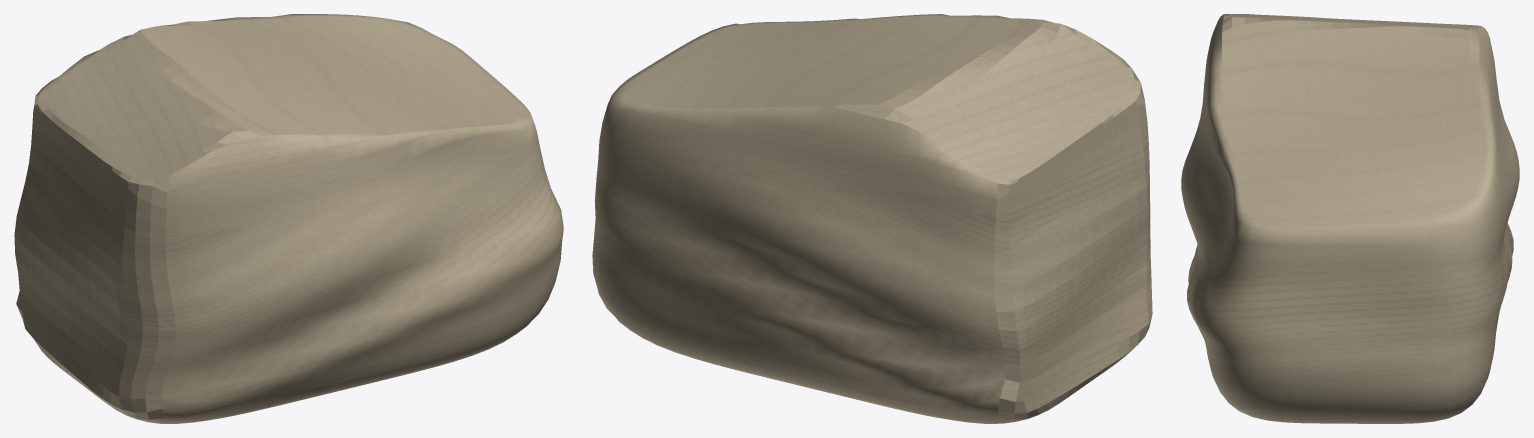
Rendered from cross-bedded-sandstone.glb.
3 views of the same model, side by side, from view 1: azimuth 30°, elevation 25°; view 2: azimuth 150°, elevation 25°; view 3: azimuth 270°, elevation 25° (orthographic). The views are drawn at different scales.
Parts seen in each view (by area): view 1: single-continuous-weathered-sandstone-shell; view 2: single-continuous-weathered-sandstone-shell; view 3: single-continuous-weathered-sandstone-shell.
Boxes of the visible parts, x1,y1,x2,y2 form: single-continuous-weathered-sandstone-shell: [14, 14, 563, 423]; single-continuous-weathered-sandstone-shell: [592, 14, 1152, 423]; single-continuous-weathered-sandstone-shell: [1181, 14, 1519, 423].
Bounding box in the file's own units: 0.7872 × 0.5104 × 0.5497.
Materials: 1 (1 with a texture image).
